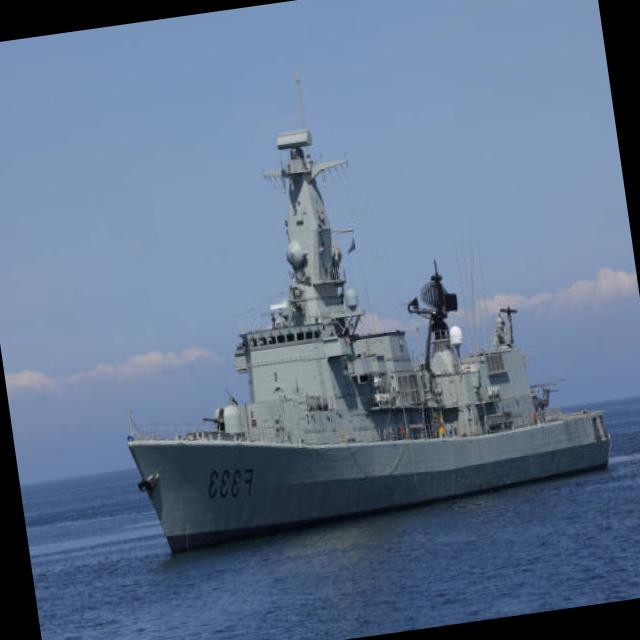Military: (127, 77, 610, 557)
